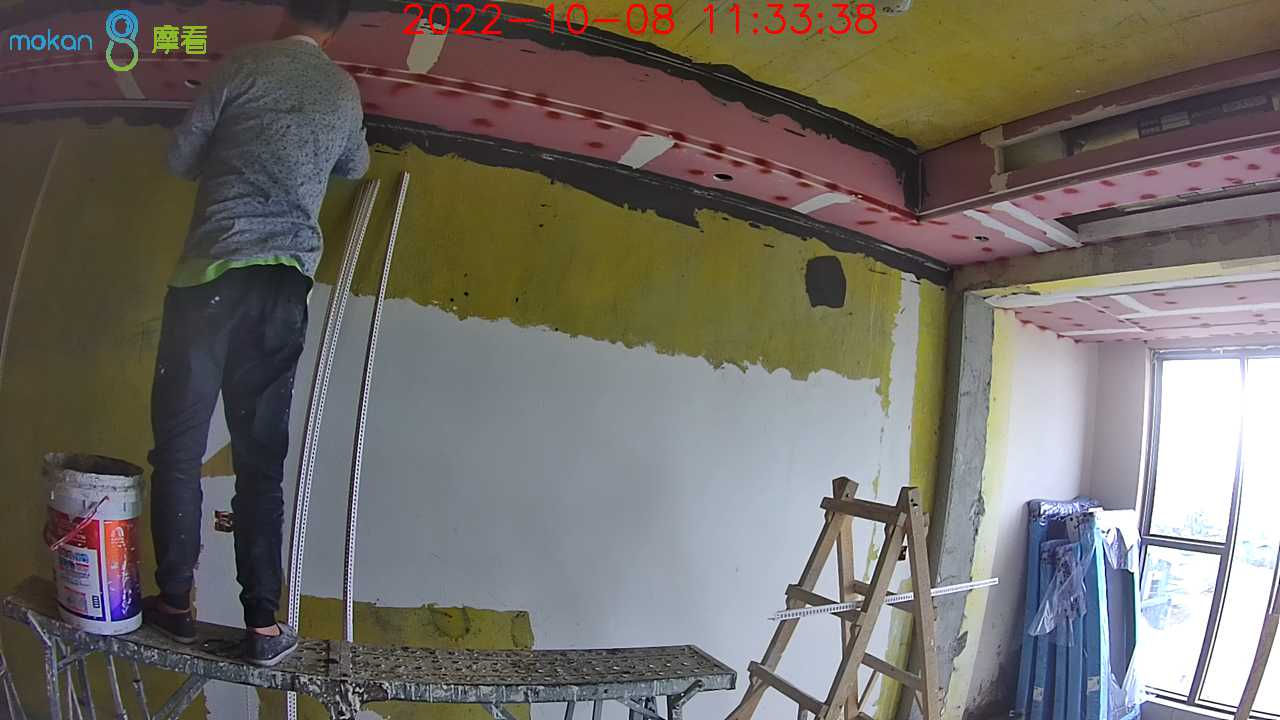people: (143, 1, 374, 666)
window: (1138, 355, 1280, 713)
